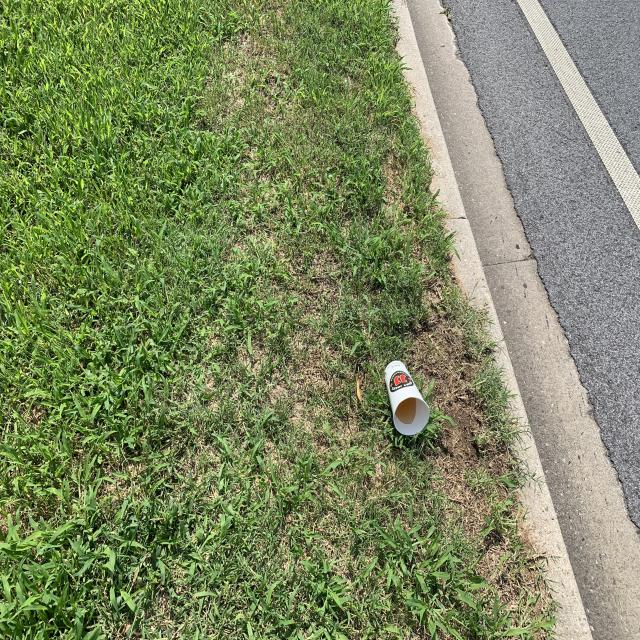Cup: (380, 356, 431, 444)
